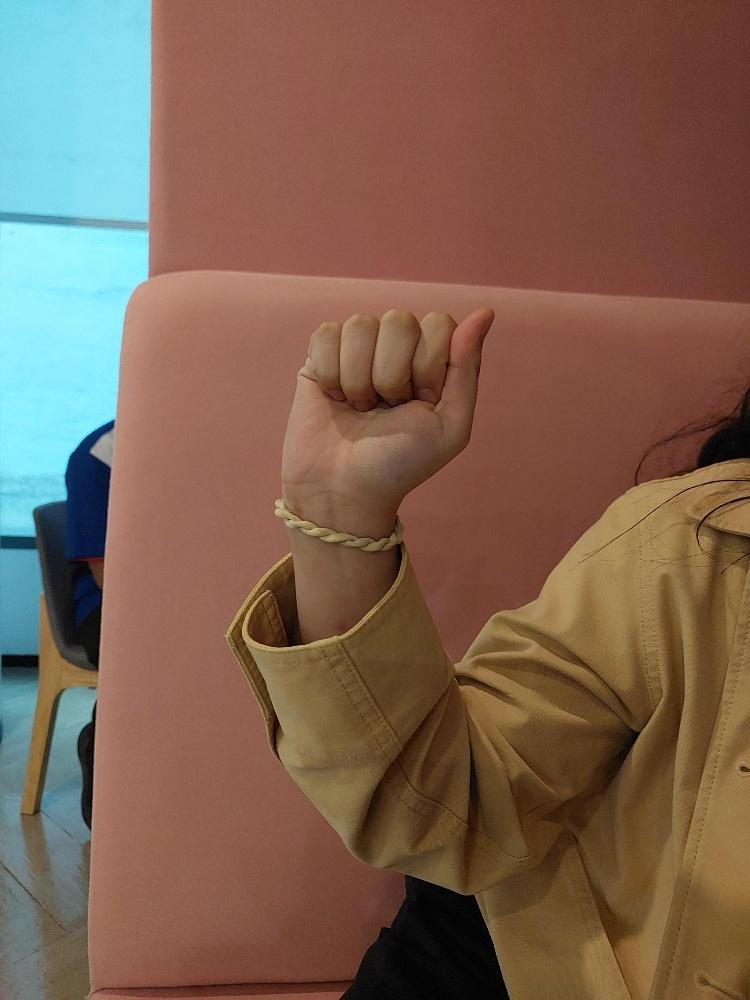a: (275, 295, 503, 520)
